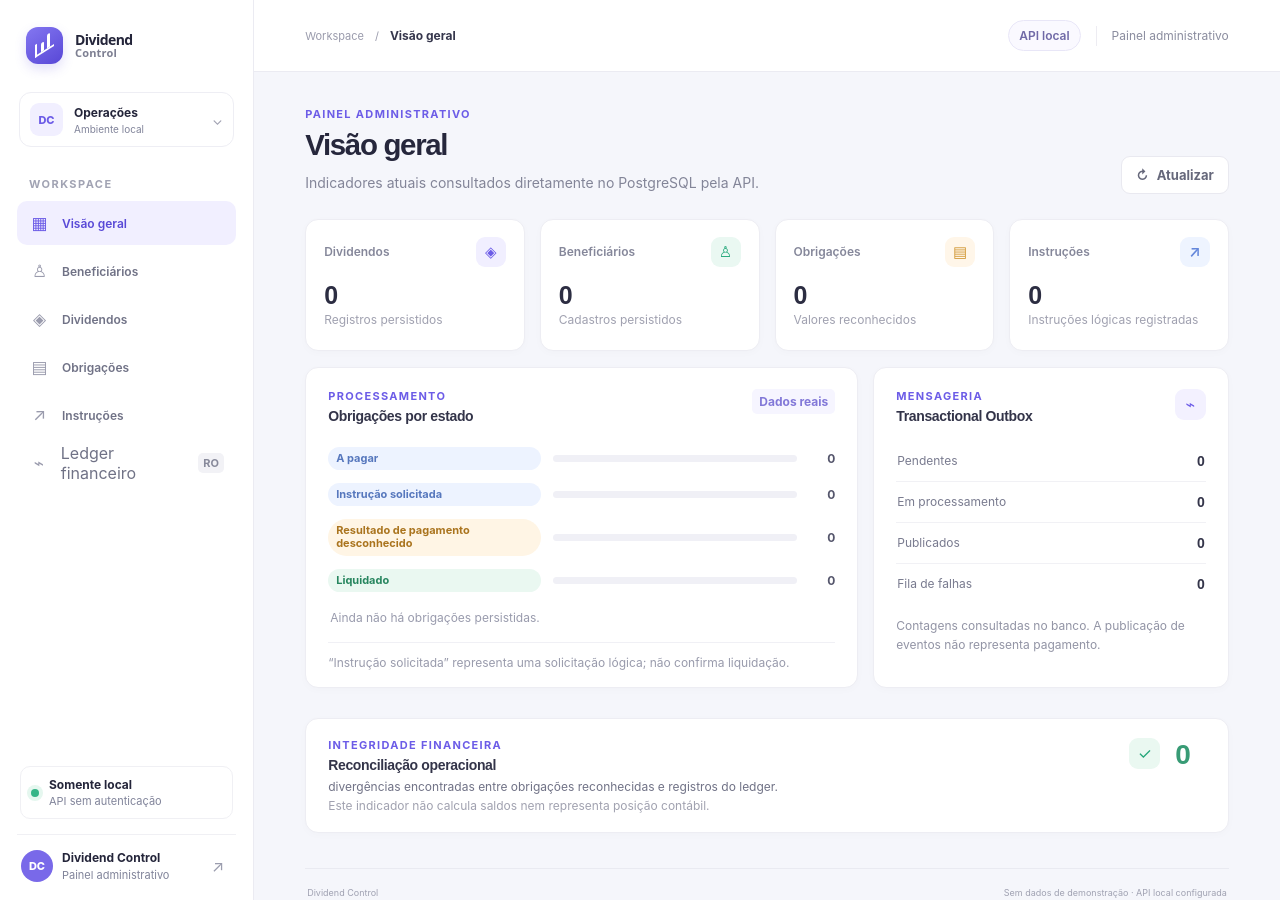
Test: interactive React panel in jsdom (controlled API responses) › modal supports Tab, Shift+Tab, Enter, Escape, and focus restoration
Step 1. Click the button "◈ Dividendos" → (126, 319), box [17,297,236,341]
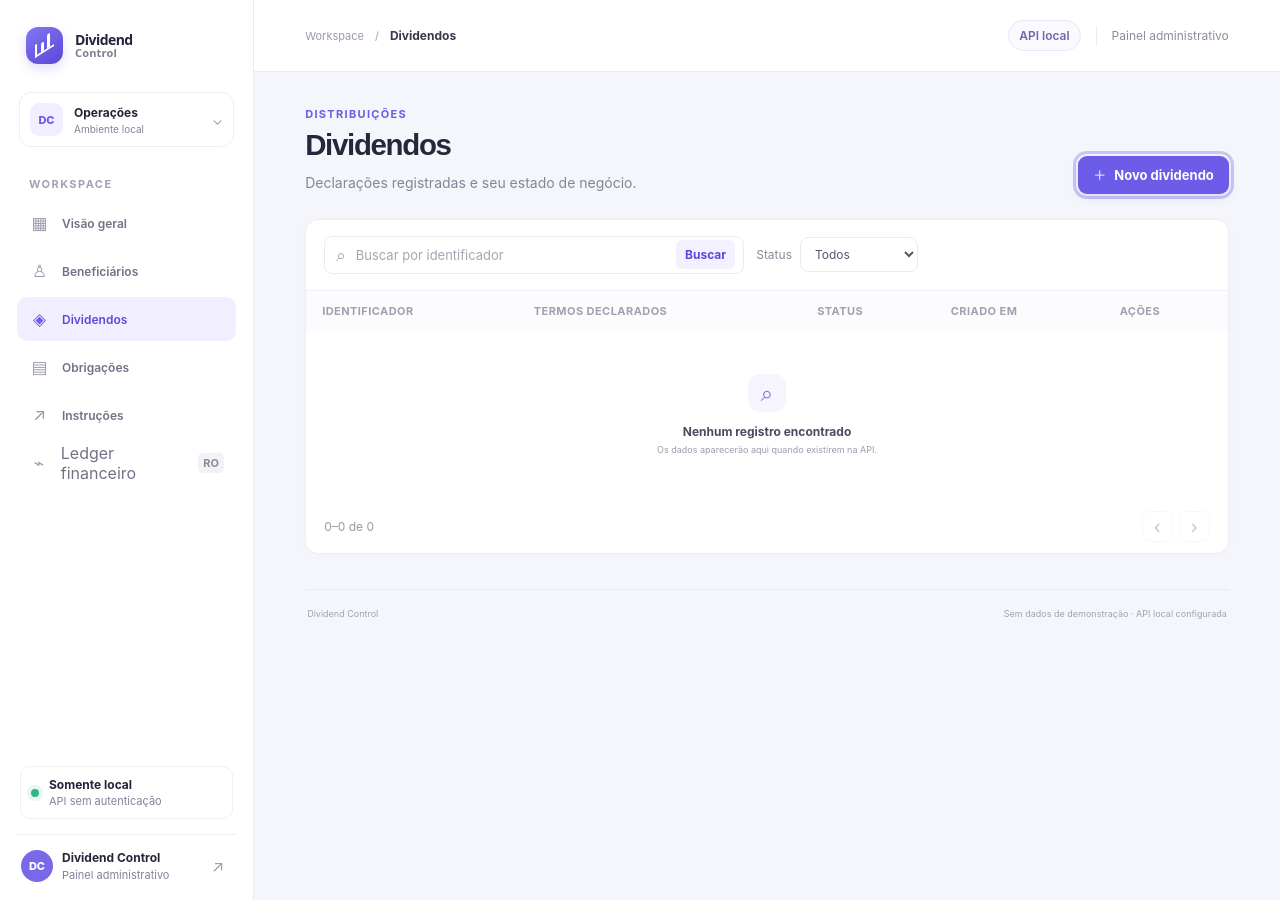
Step 2. Press Enter
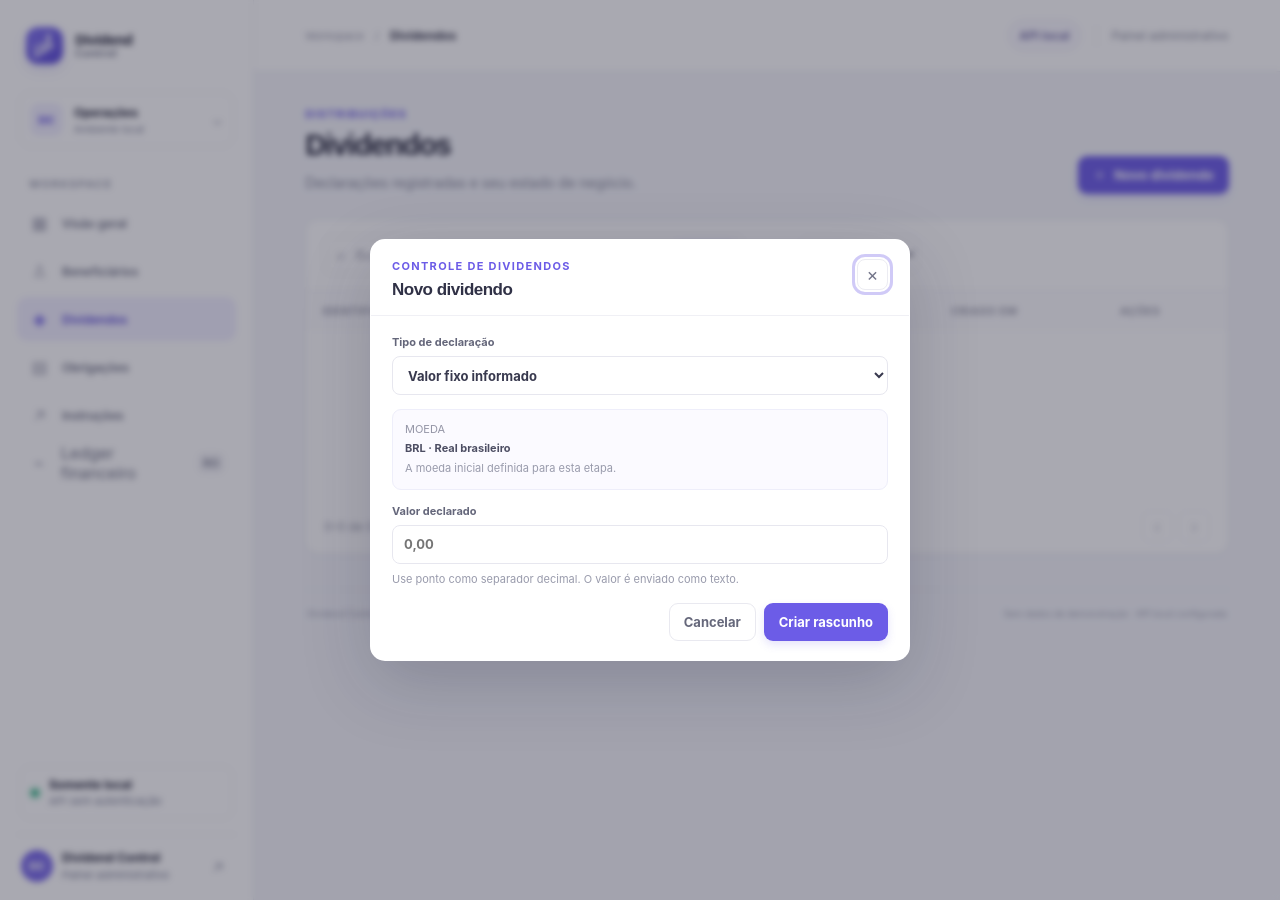
Step 3. Type keys "{Shift>}{Tab}{/Shift}"
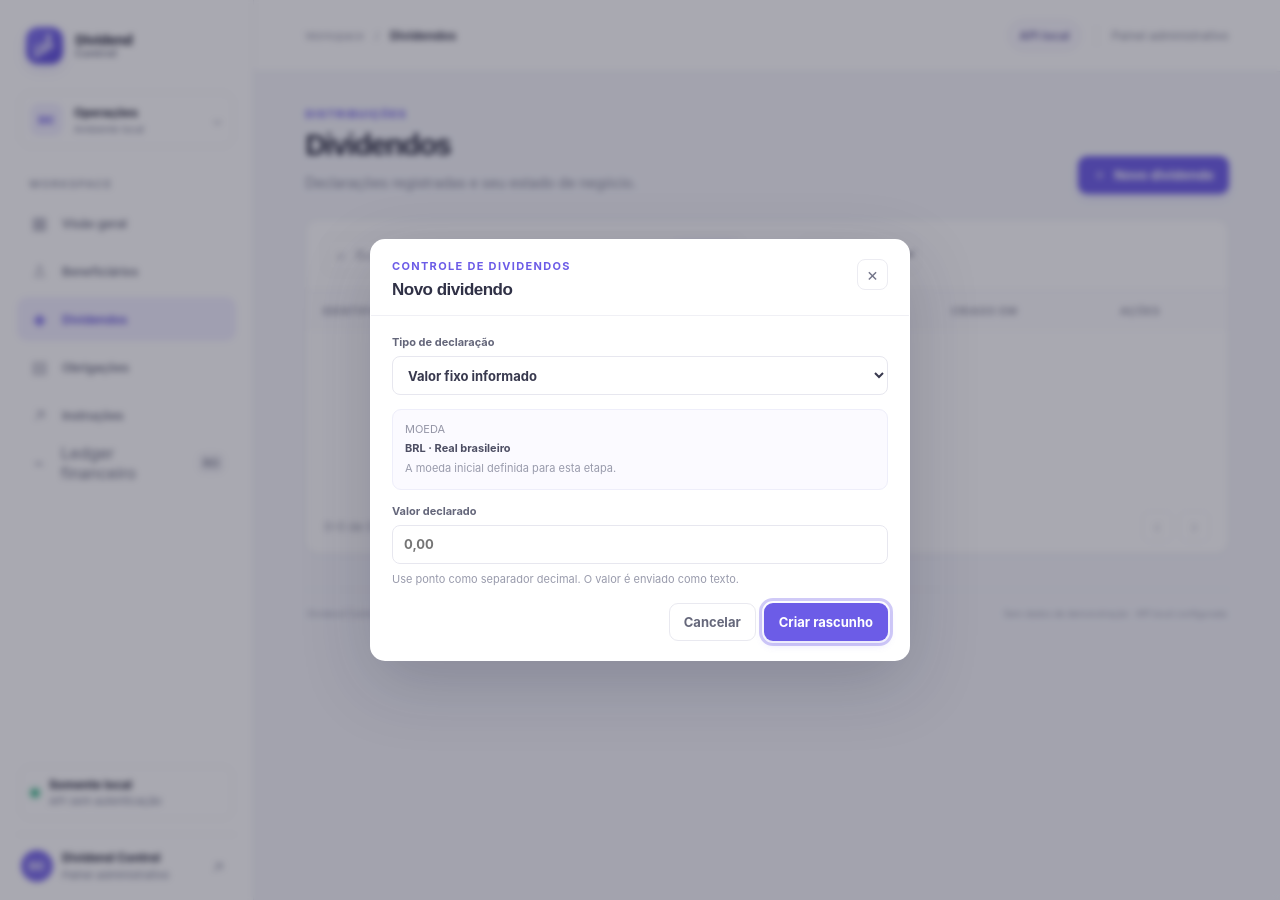
Step 4. Press Tab
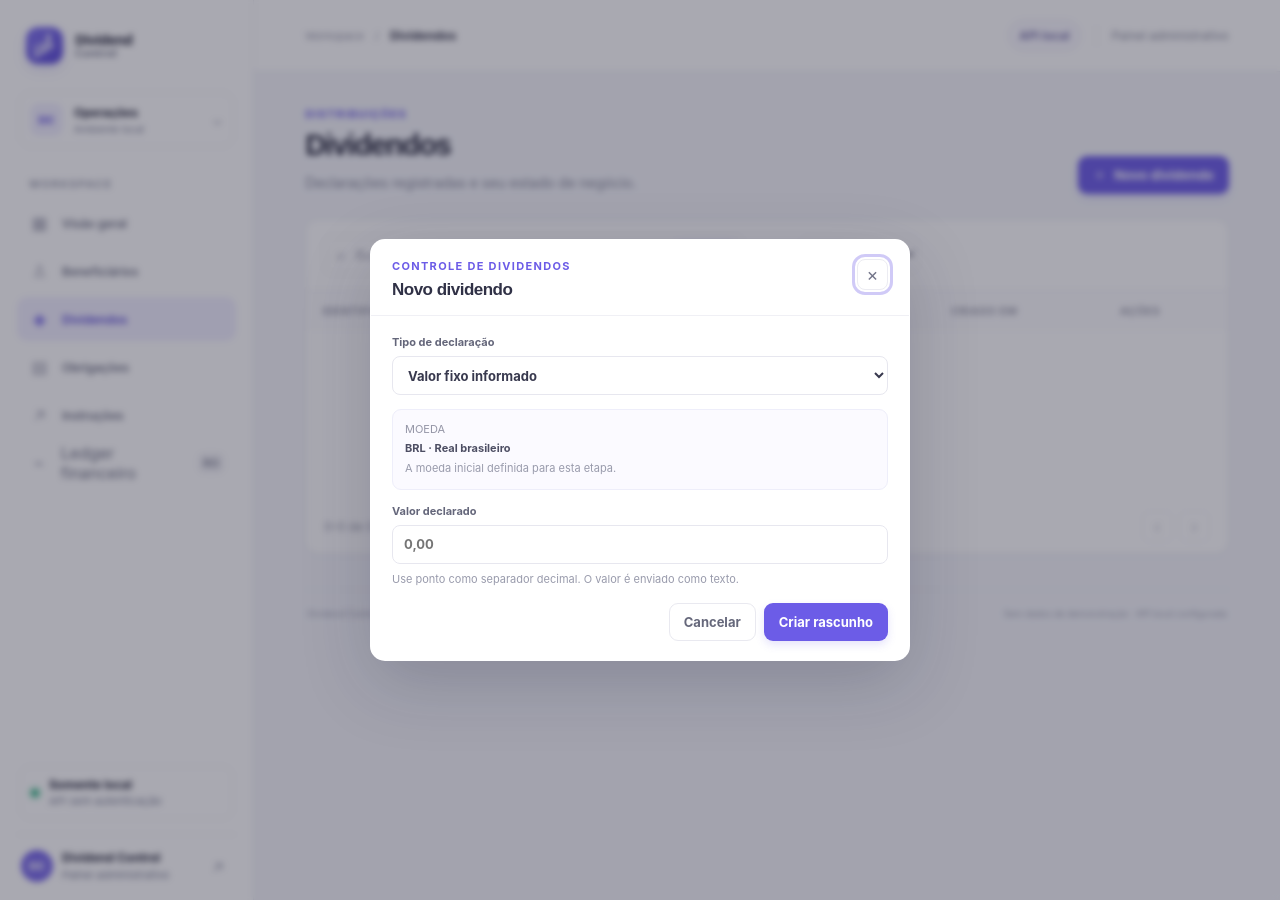
Step 5. Press Escape
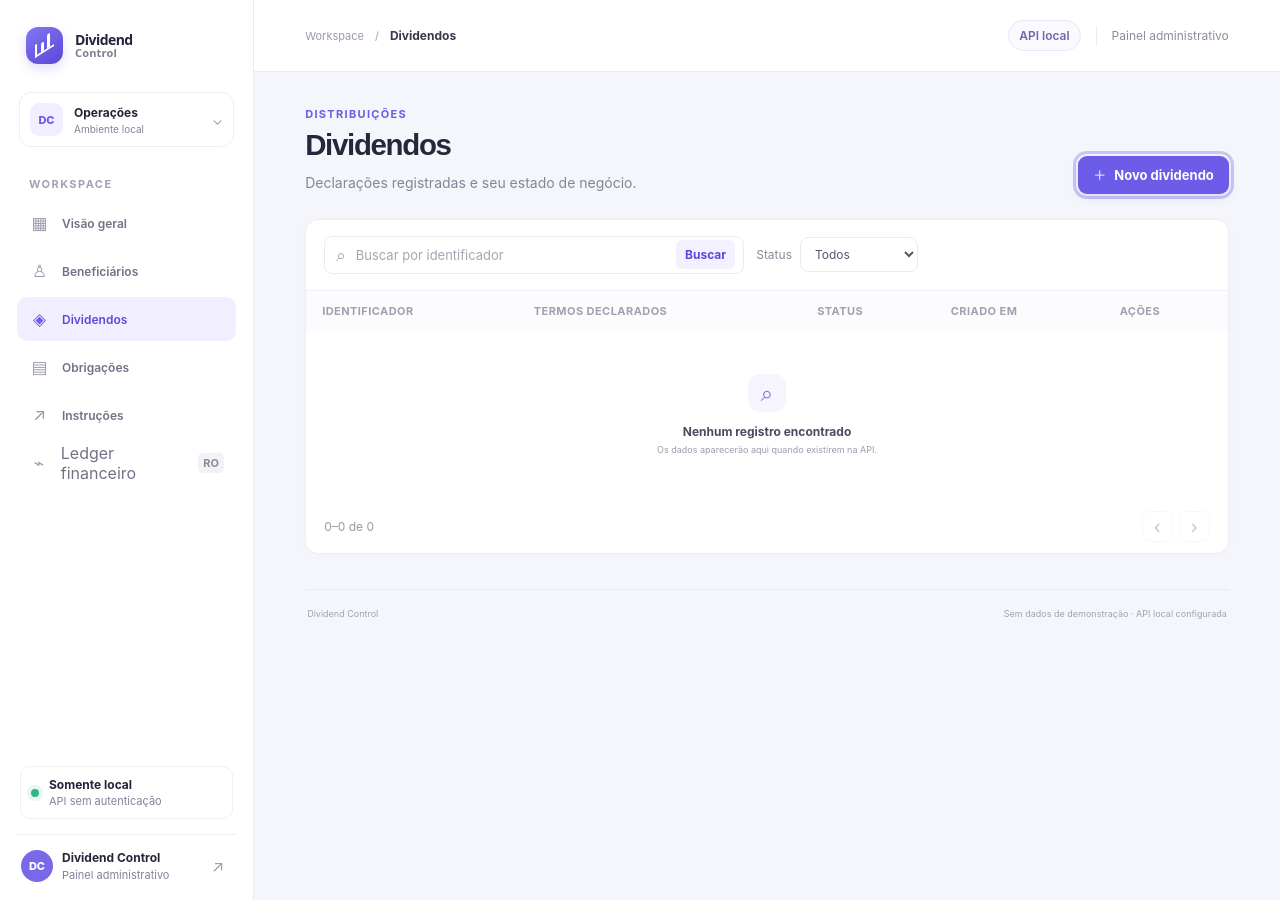
Check: the dialog is gone
